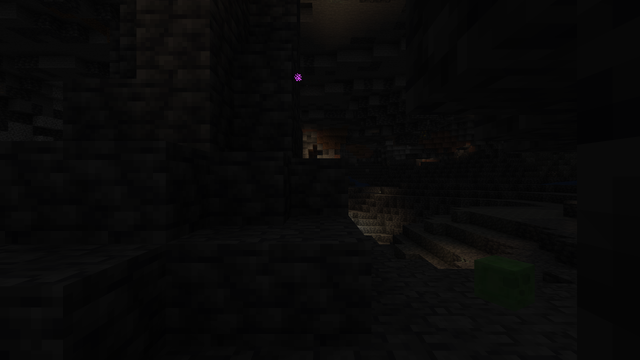slimes: (473, 255, 538, 308)
